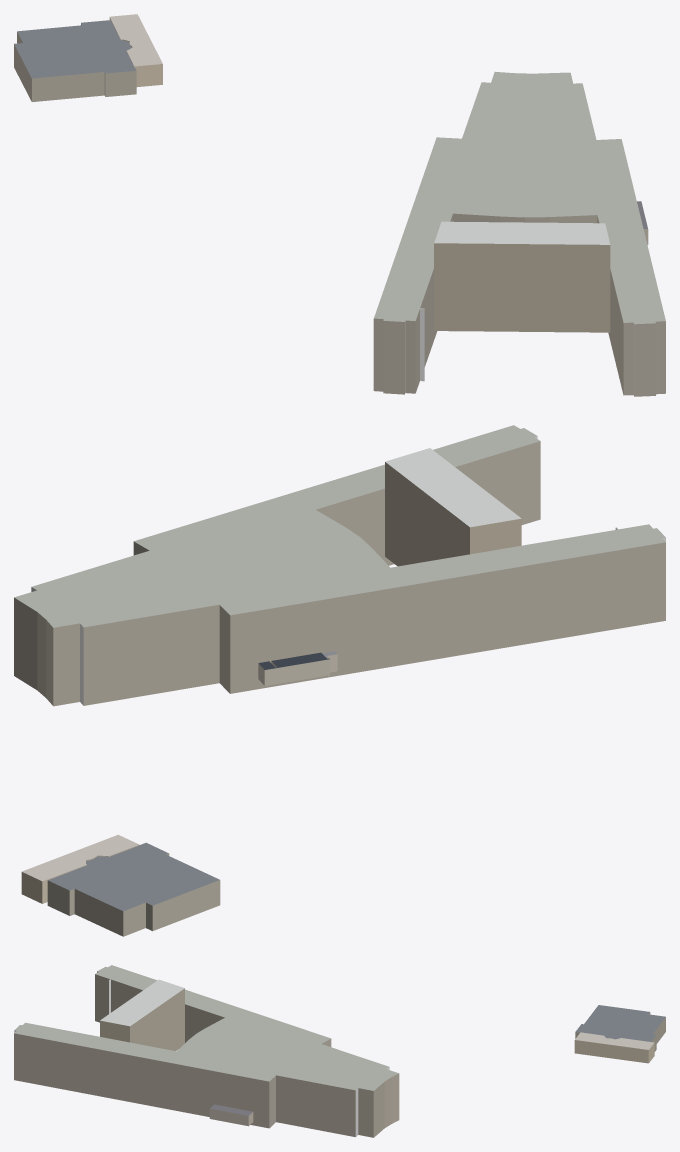
3 renders of one model, top to bottom at view 1: azimuth 30°, elevation 25°; view 2: azimuth 150°, elevation 25°; view 3: azimuth 270°, elevation 25°, orthographic. The views are drawn at different scales.
Parts seen in each view (by area): view 1: tuile; view 2: tuile; view 3: tuile.
Boxes of the visible parts, bbox=[...] form: tuile: bbox=[14, 14, 665, 396]; tuile: bbox=[14, 425, 665, 936]; tuile: bbox=[14, 965, 665, 1137].
Bounding box in the file's own units: 144 × 33.51 × 314.
